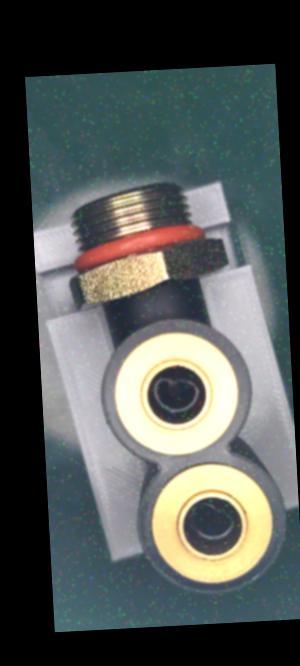joint line: (148, 298, 159, 317)
off-centered: (182, 493, 239, 549), (151, 366, 205, 416)
